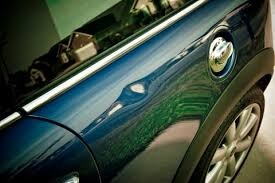Dent: (116, 79, 151, 109)
